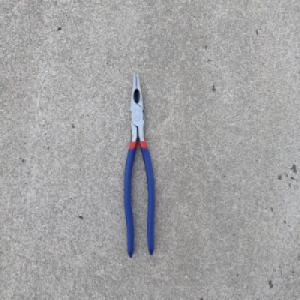Pliers: (122, 70, 156, 261)
